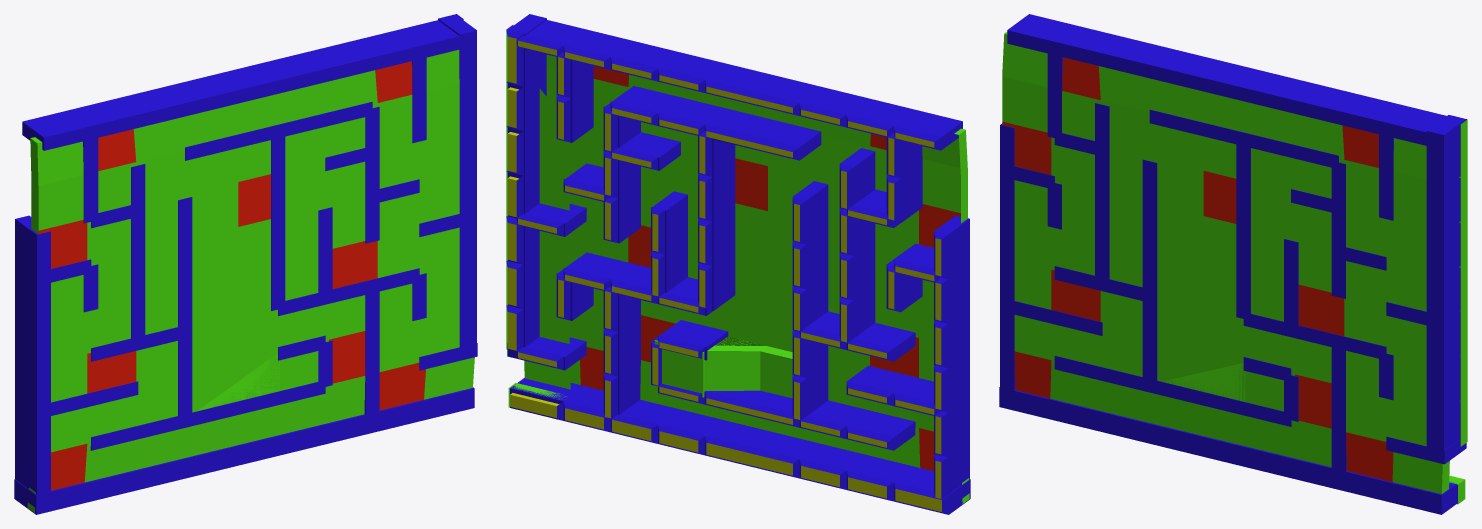
Rendered from maze.fbx.
3 views of the same model, side by side, from view 1: azimuth 30°, elevation 25°; view 2: azimuth 150°, elevation 25°; view 3: azimuth 330°, elevation 25° (orthographic).
Parts seen in each view (by area): view 1: maze; view 2: maze; view 3: maze.
Part boxes in pixels (x1,y1,x2,y2): maze: (14, 14, 477, 514); maze: (506, 14, 970, 514); maze: (999, 14, 1467, 514).
Size of the model in its own units: 3088 by 2514 by 297.
